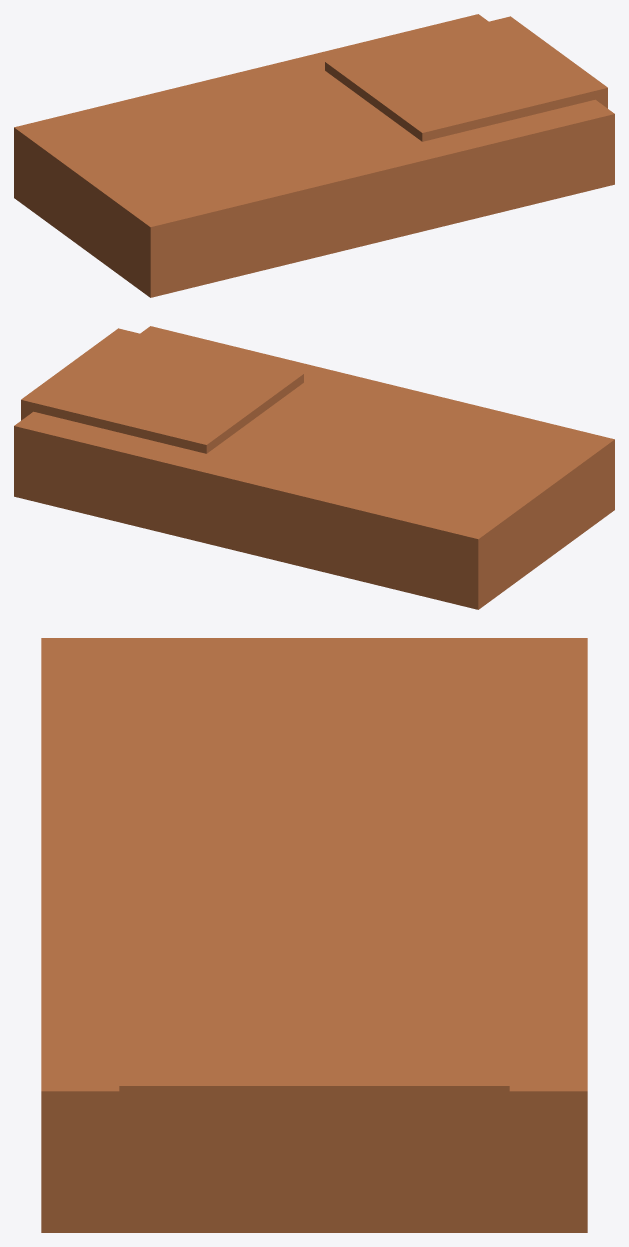
Rendered from product_smoked_fillet.glb.
3 views of the same model, one above another, from view 1: azimuth 30°, elevation 25°; view 2: azimuth 150°, elevation 25°; view 3: azimuth 270°, elevation 25° (orthographic). The views are drawn at different scales.
Visible parts, largest first — view 1: product.smoked_fillet; view 2: product.smoked_fillet; view 3: product.smoked_fillet.
Part boxes in pixels (bbox=[...]): product.smoked_fillet: bbox=[14, 14, 614, 297]; product.smoked_fillet: bbox=[14, 326, 614, 609]; product.smoked_fillet: bbox=[41, 638, 587, 1232].
Size of the model in its own units: 0.24 by 0.0382 by 0.1189.
